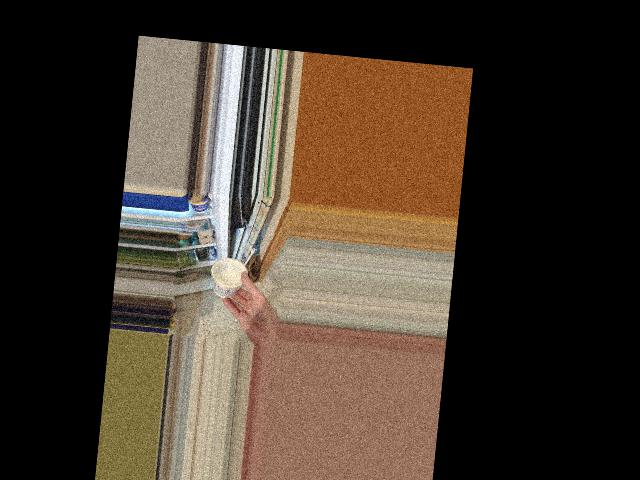cotage: (209, 258, 244, 299)
